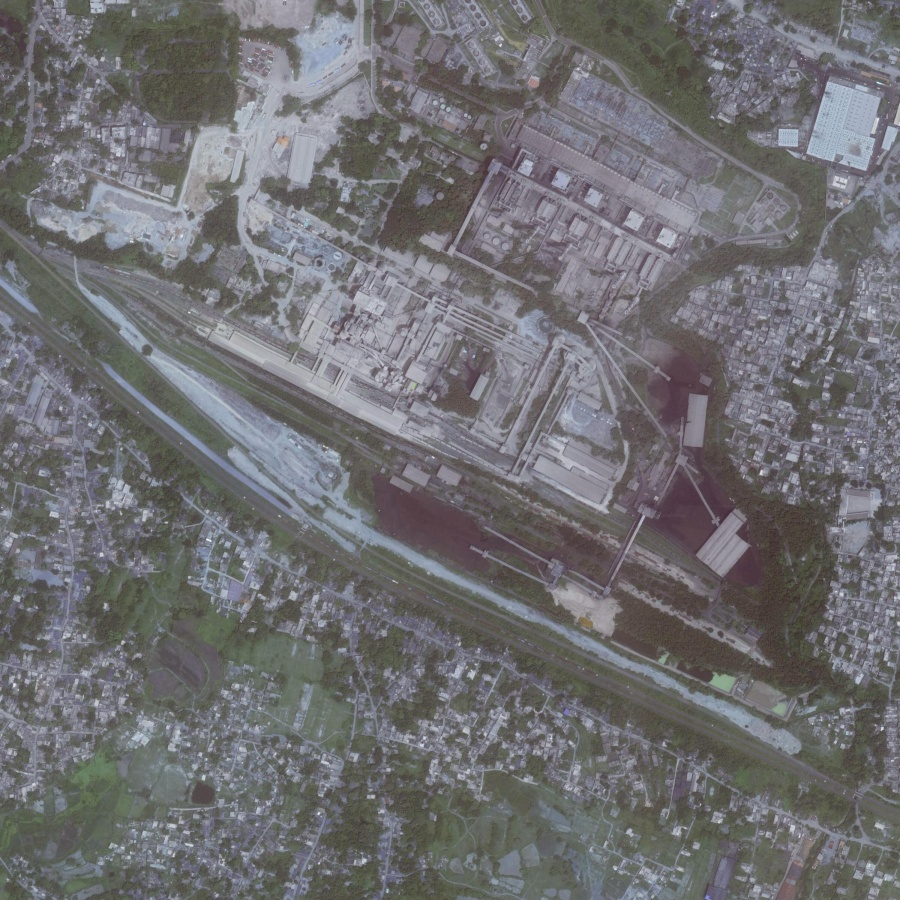PowerPlant: (293, 137, 799, 596)
